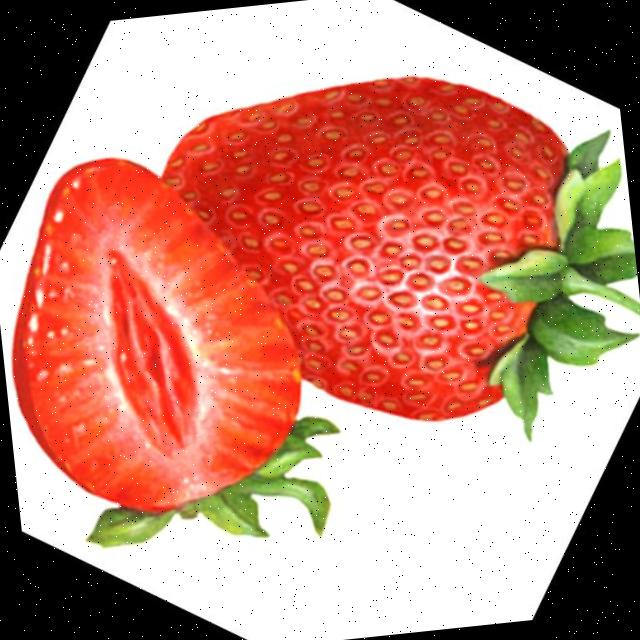strawberry: (165, 79, 640, 438), (13, 160, 337, 547)
